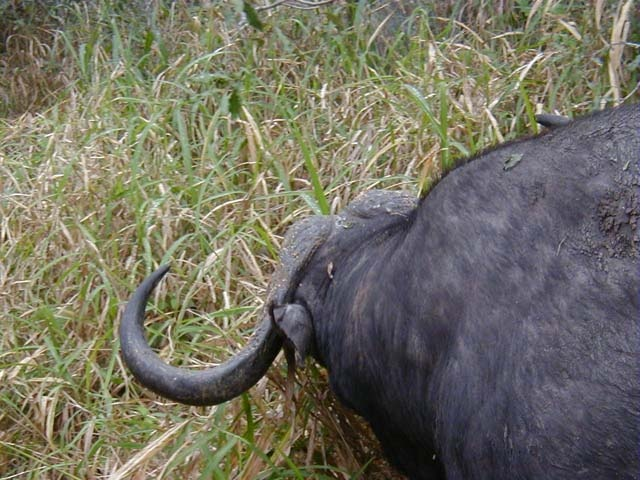buffalo: (120, 106, 639, 479)
